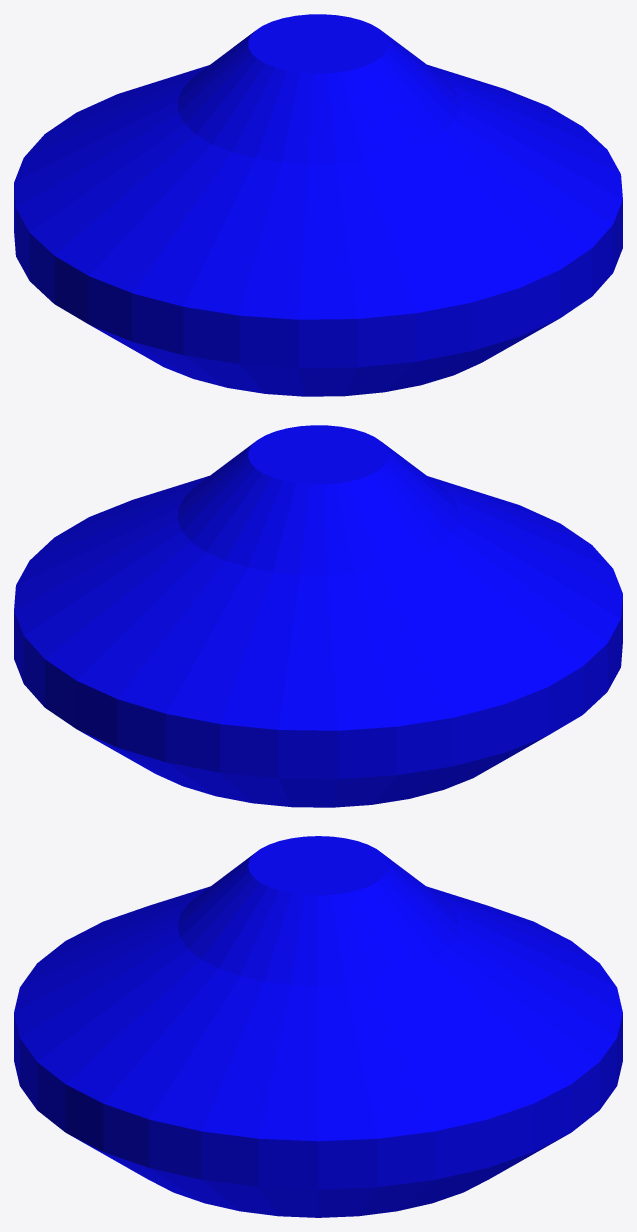
Rendered from UFO.obj.
3 views of the same model, one above another, from view 1: azimuth 30°, elevation 25°; view 2: azimuth 150°, elevation 25°; view 3: azimuth 270°, elevation 25° (orthographic).
Visible parts, largest first — view 1: Cylinder; view 2: Cylinder; view 3: Cylinder.
Boxes of the visible parts, x1=… form: Cylinder: x1=14, y1=14, x2=622, y2=396; Cylinder: x1=14, y1=425, x2=622, y2=807; Cylinder: x1=14, y1=836, x2=622, y2=1217.
Bounding box in the file's own units: 2 × 0.9622 × 2.
